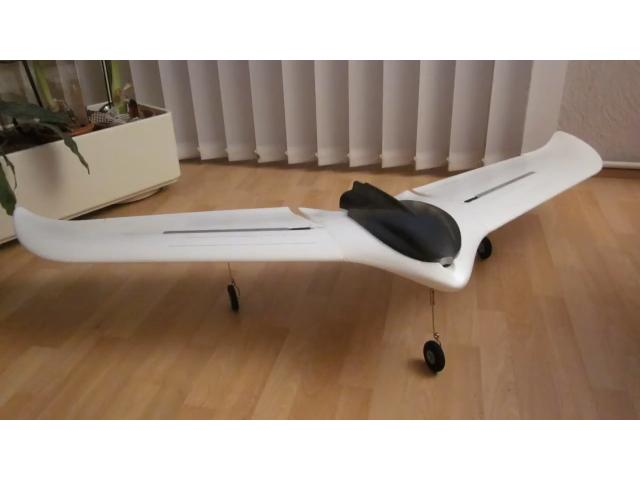Anti-Drone: (12, 106, 620, 302)
